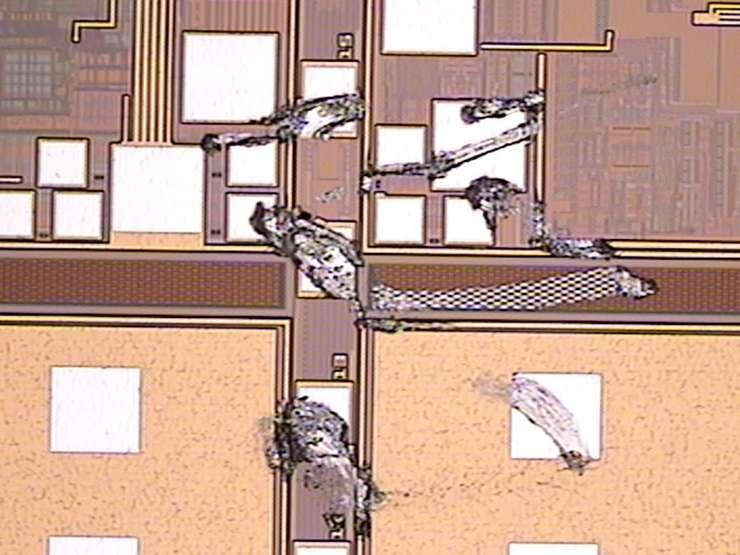SCRATCH: (196, 63, 666, 548)
